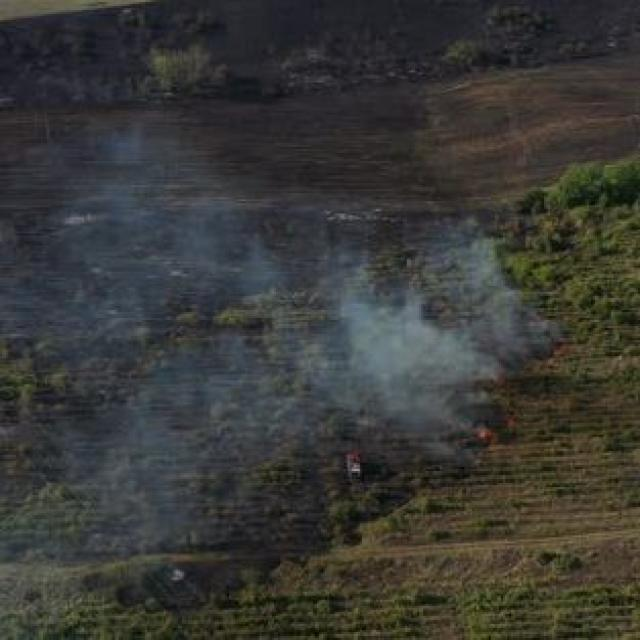Smoke: (0, 201, 560, 593)
